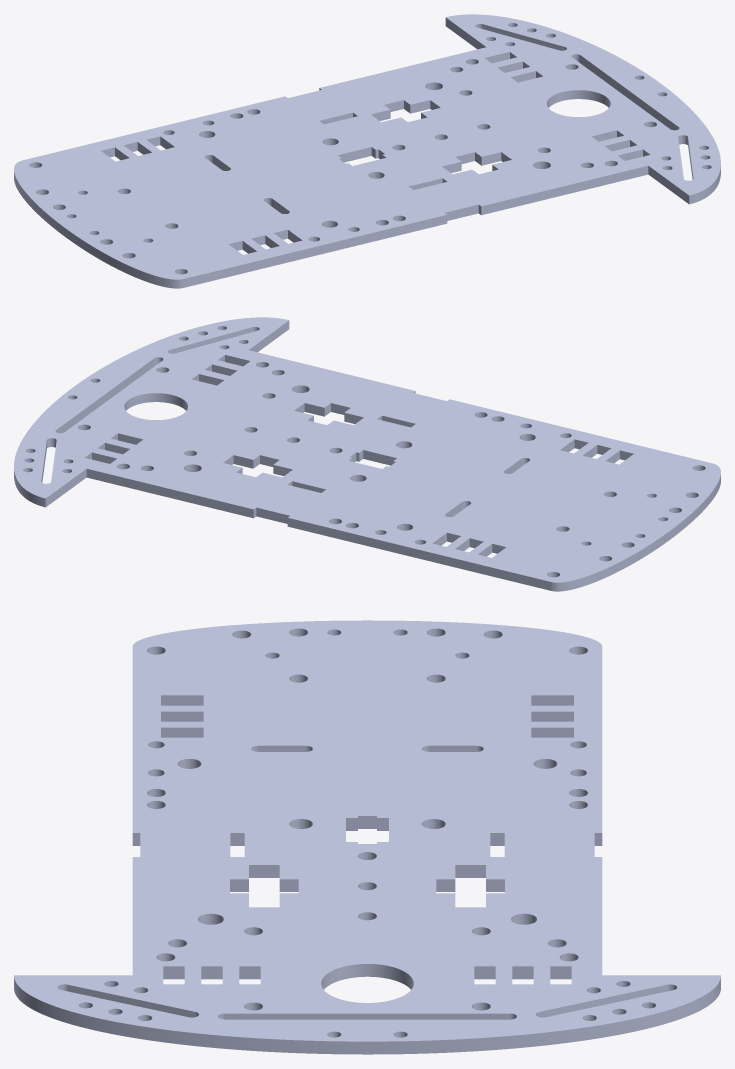
Rendered from chassis.dae.
3 renders of one model, top to bottom at view 1: azimuth 30°, elevation 25°; view 2: azimuth 150°, elevation 25°; view 3: azimuth 270°, elevation 25°, orthographic. The views are drawn at different scales.
Visible parts, largest first — view 1: 5b1922f2047d590ecbf3e22e; view 2: 5b1922f2047d590ecbf3e22e; view 3: 5b1922f2047d590ecbf3e22e.
Boxes of the visible parts, bbox=[...] form: 5b1922f2047d590ecbf3e22e: bbox=[14, 14, 720, 288]; 5b1922f2047d590ecbf3e22e: bbox=[14, 317, 720, 591]; 5b1922f2047d590ecbf3e22e: bbox=[14, 620, 720, 1054].
Bounding box in the file's own units: 0.21 × 0.149 × 0.003.
